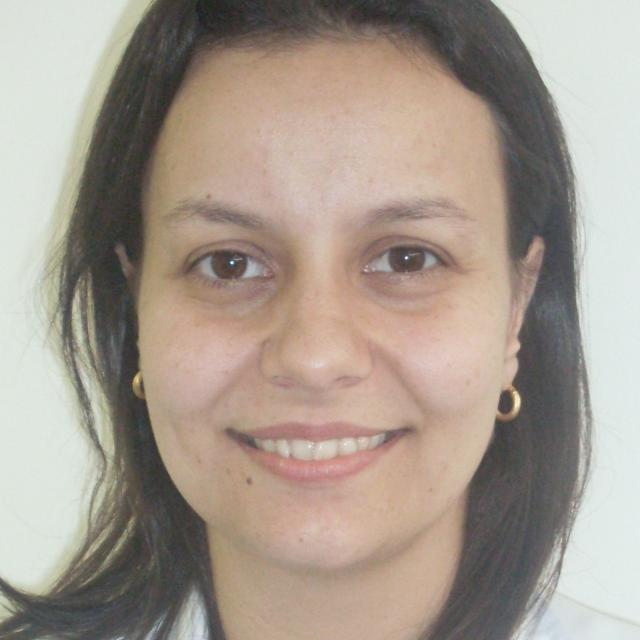Normal: (134, 39, 518, 578)
